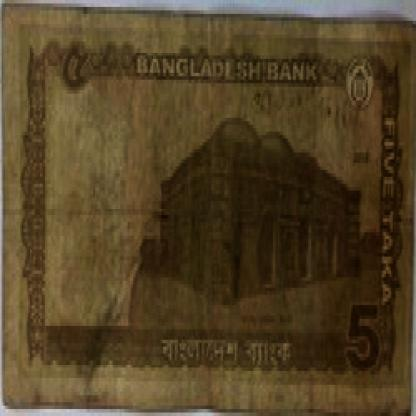Five Taka: (341, 281, 385, 388), (55, 35, 93, 100)
